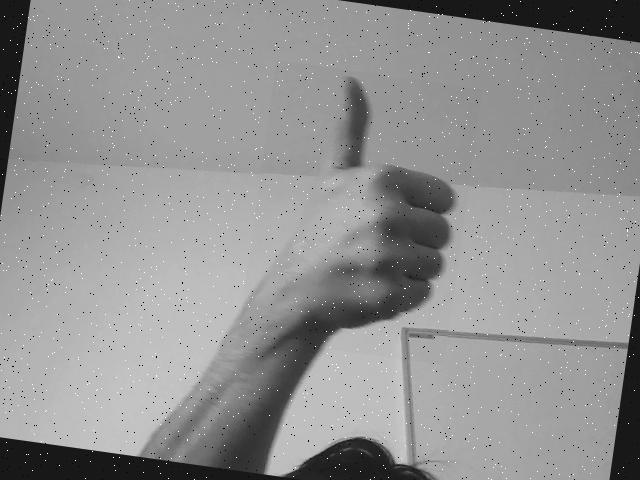good: (240, 70, 465, 347)
